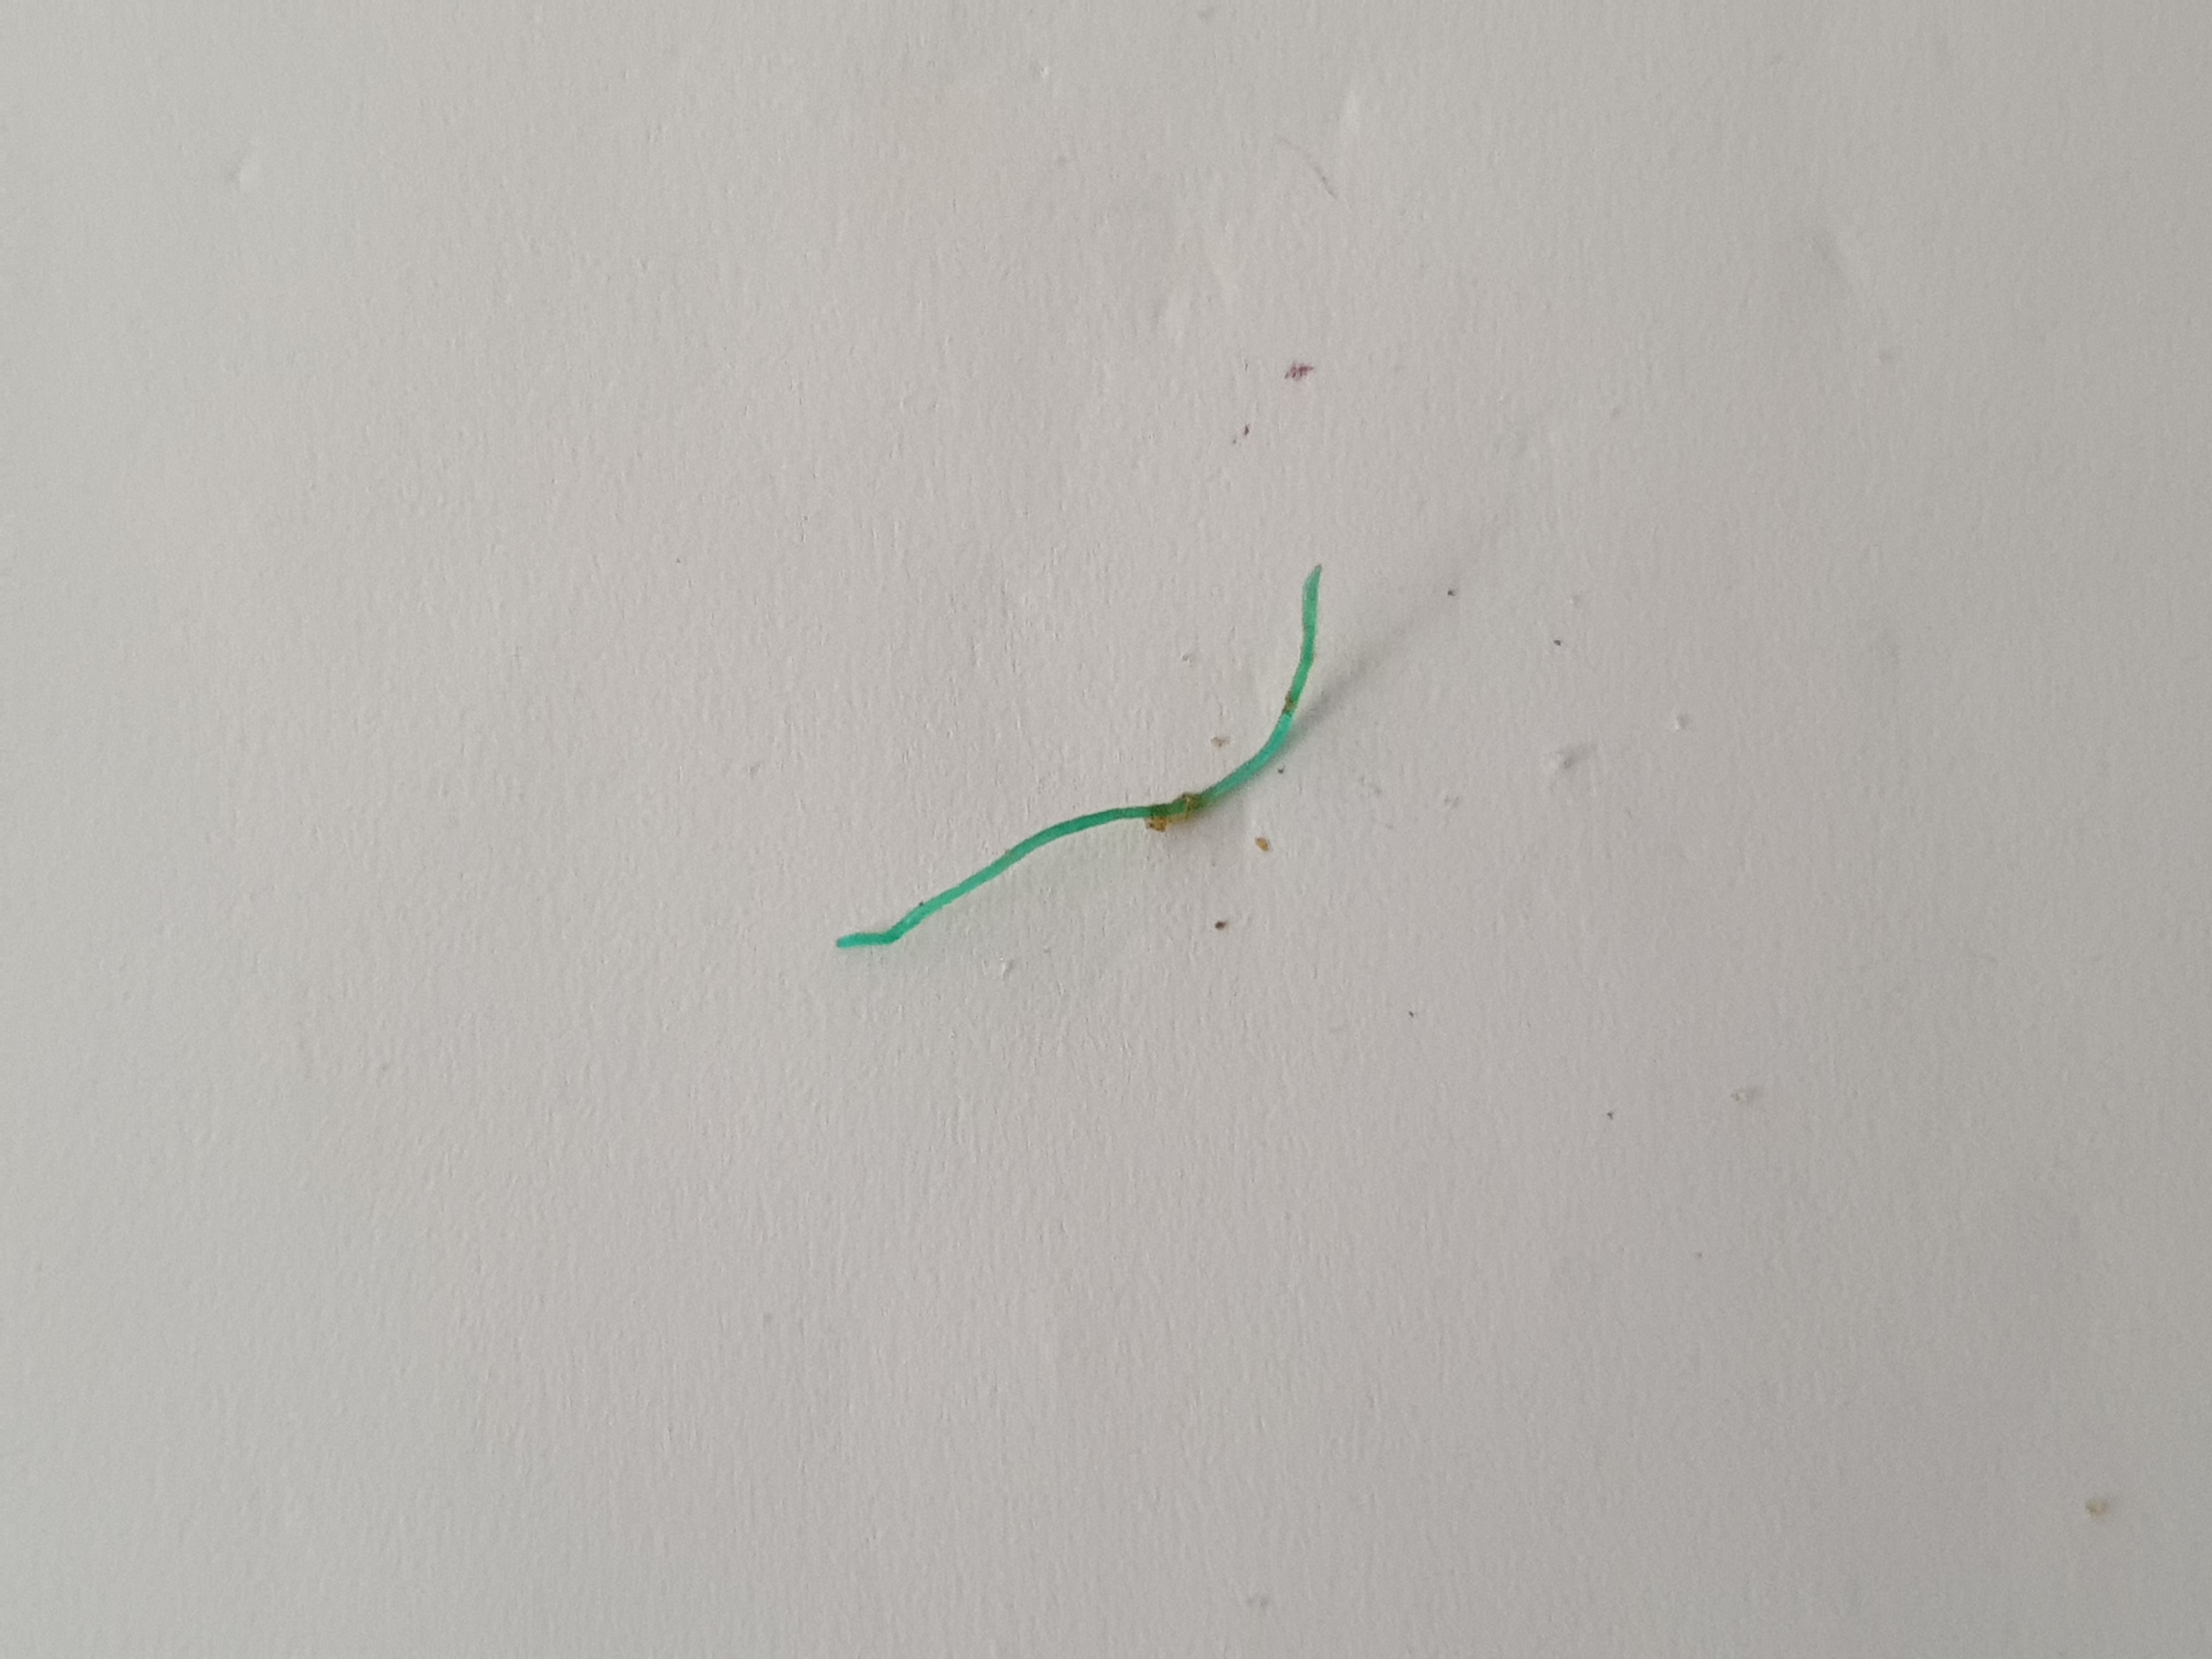thread: (819, 544, 1461, 981)
